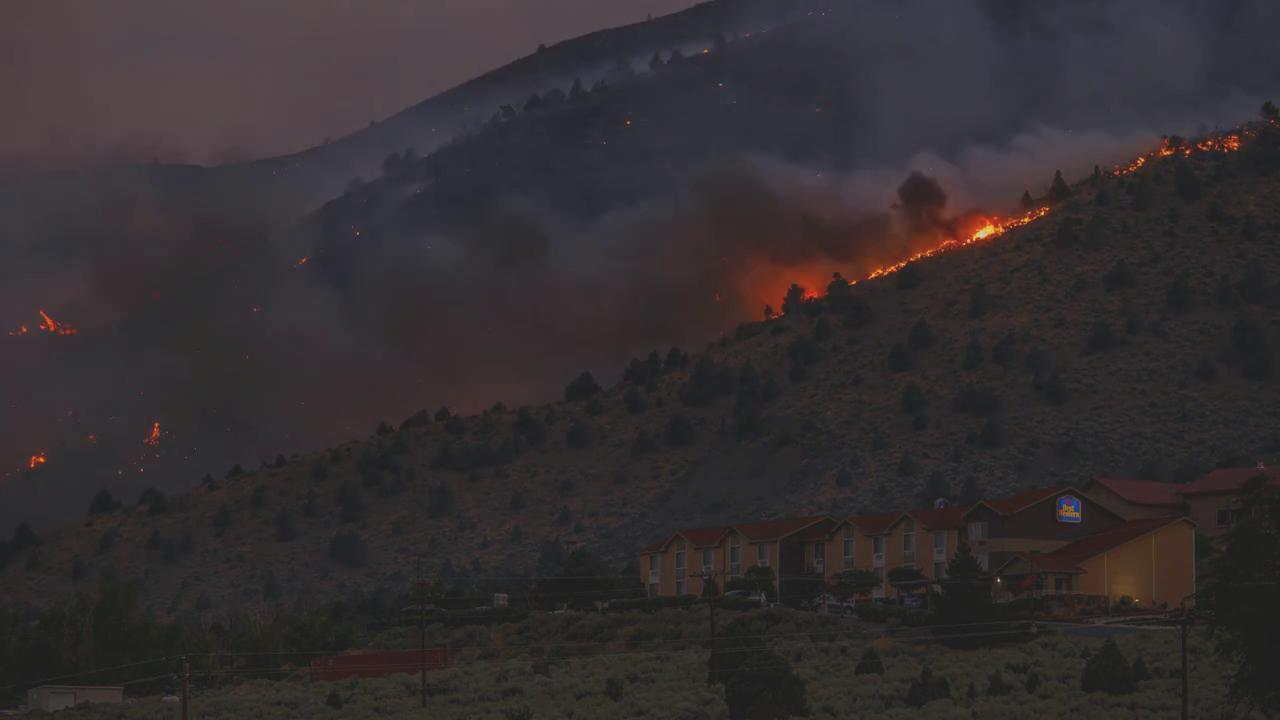fire: (873, 206, 1045, 274), (1165, 133, 1238, 158), (14, 310, 75, 336), (141, 418, 165, 444), (1113, 156, 1141, 177), (31, 451, 47, 472)
